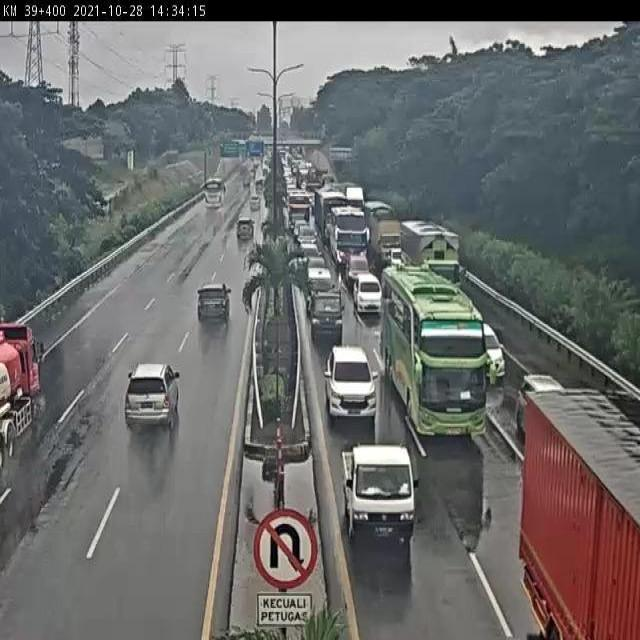bus-l-: (379, 265, 484, 439), (330, 205, 370, 263)
car: (340, 447, 414, 540), (323, 345, 380, 416), (464, 315, 502, 377), (310, 283, 343, 336), (351, 273, 383, 311), (302, 260, 335, 296), (199, 284, 230, 321), (341, 250, 367, 278), (297, 238, 318, 266), (302, 250, 323, 270)
